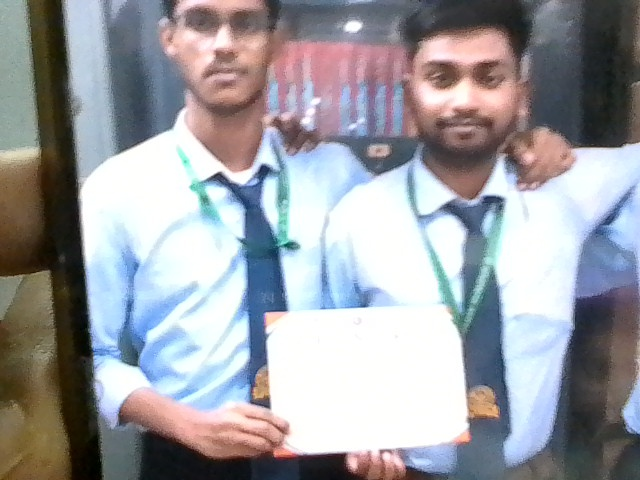real: (162, 0, 291, 183)
